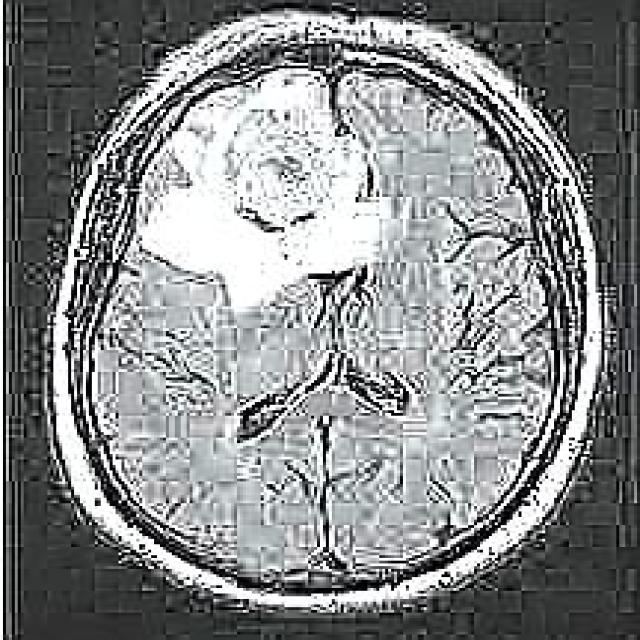Tumor-Cell: (146, 92, 382, 278)
